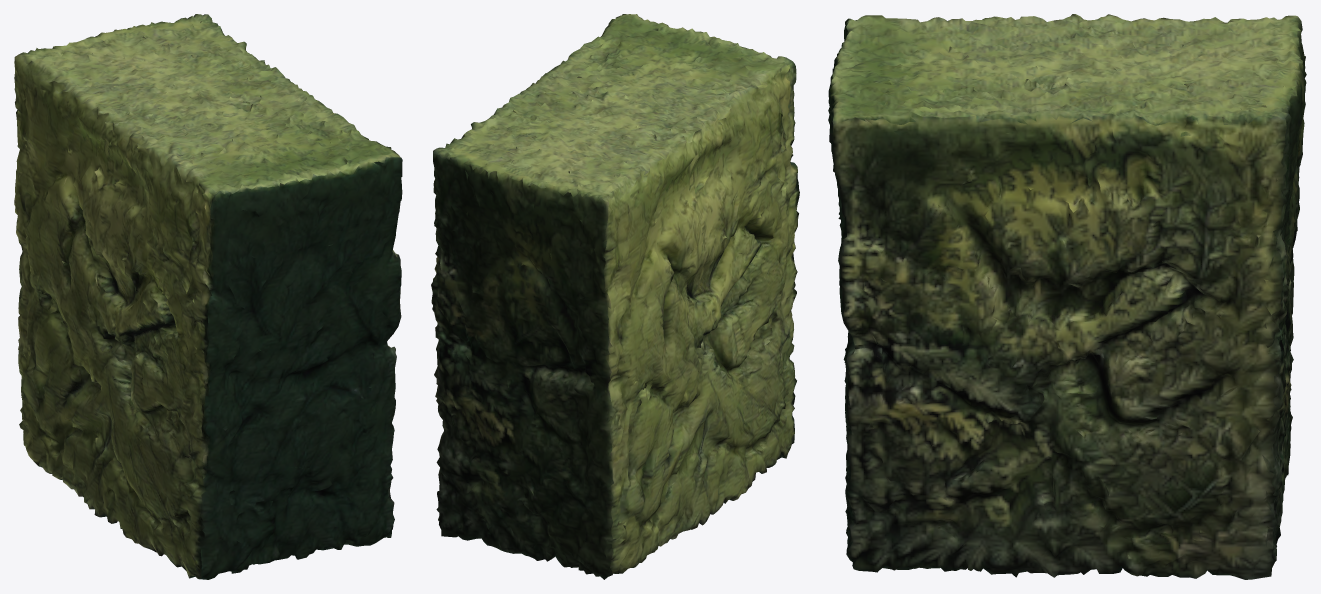
Rendered from hedgeblock.glb.
3 renders of one model, left to right at view 1: azimuth 30°, elevation 25°; view 2: azimuth 150°, elevation 25°; view 3: azimuth 270°, elevation 25°, orthographic. The views are drawn at different scales.
Visible parts, largest first — view 1: HedgeBlock; view 2: HedgeBlock; view 3: HedgeBlock.
Part boxes in pixels (left/top/right/bottom): HedgeBlock: left=14, top=14, right=402, bottom=579; HedgeBlock: left=431, top=14, right=799, bottom=579; HedgeBlock: left=828, top=14, right=1306, bottom=579.
Size of the model in its own units: 0.5358 by 1 by 0.9349.
1 material, 1 textured.
